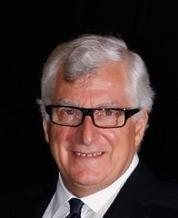face: (58, 100, 123, 163)
